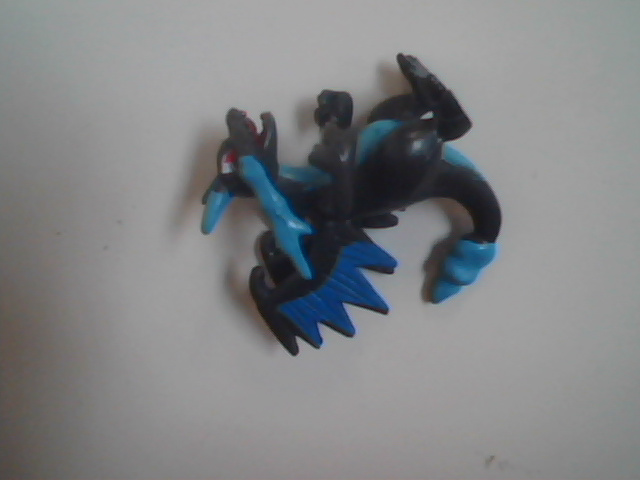charizard: (193, 18, 566, 386)
